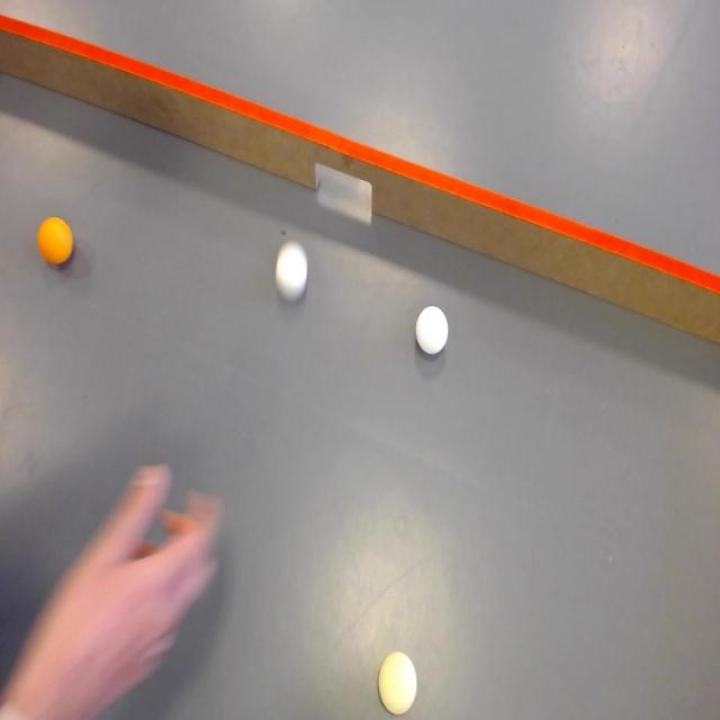orange: (34, 215, 78, 270)
white: (378, 648, 420, 712), (273, 236, 312, 302), (414, 304, 450, 359)
